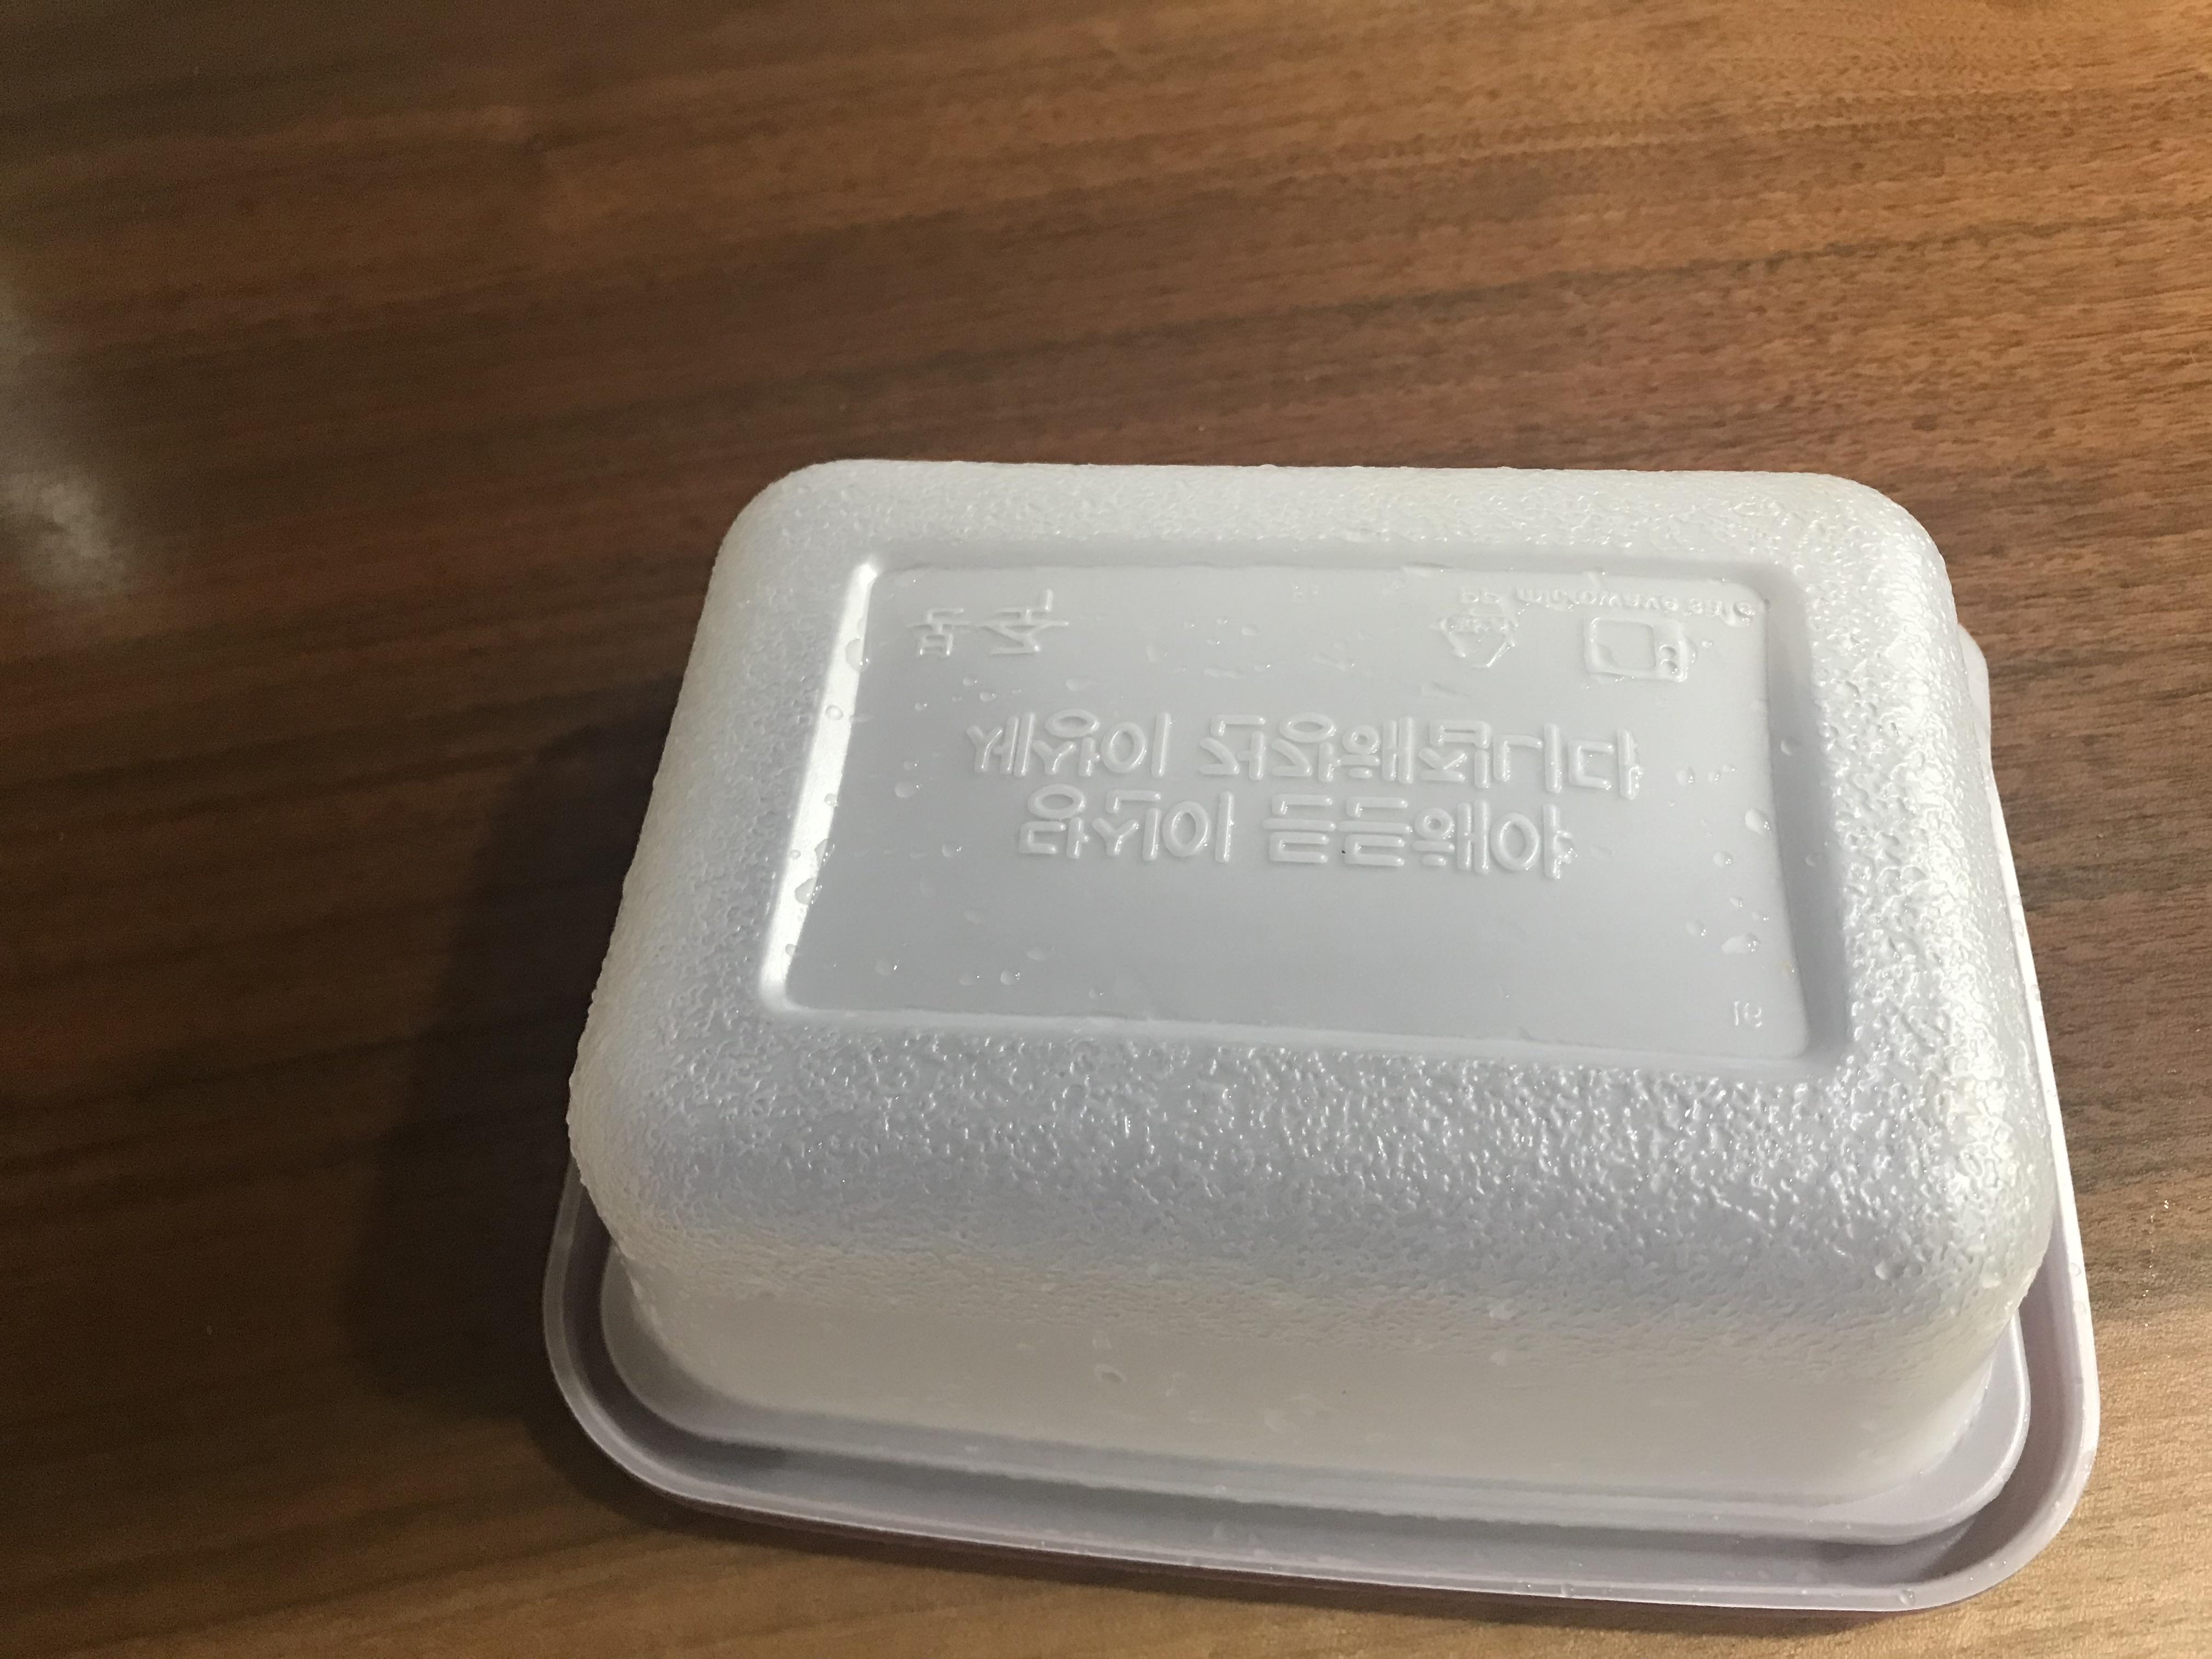bottle: (1315, 406, 1327, 1626)
